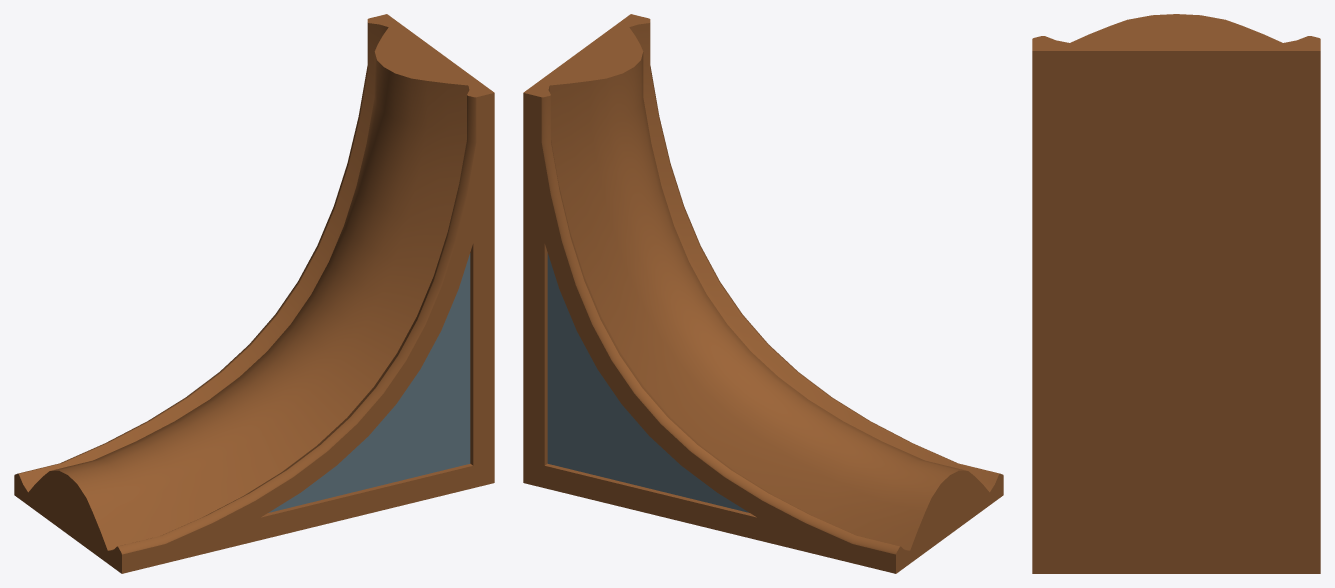
Rendered from 024_025_026_027_wall_deco_round_corner_L_blue.glb.
The picture shows the model from 3 angles, left to right: view 1: azimuth 30°, elevation 25°; view 2: azimuth 150°, elevation 25°; view 3: azimuth 270°, elevation 25°; orthographic projection. The views are drawn at different scales.
Visible parts, largest first — view 1: deco, wall; view 2: deco, wall; view 3: deco.
Part boxes in pixels (left/top/right/bottom): deco: left=14, top=14, right=494, bottom=573; wall: left=268, top=253, right=470, bottom=512; deco: left=523, top=14, right=1003, bottom=573; wall: left=547, top=253, right=749, bottom=512; deco: left=1032, top=14, right=1320, bottom=573.
Size of the model in its own units: 1.5 by 1.5 by 0.75.
